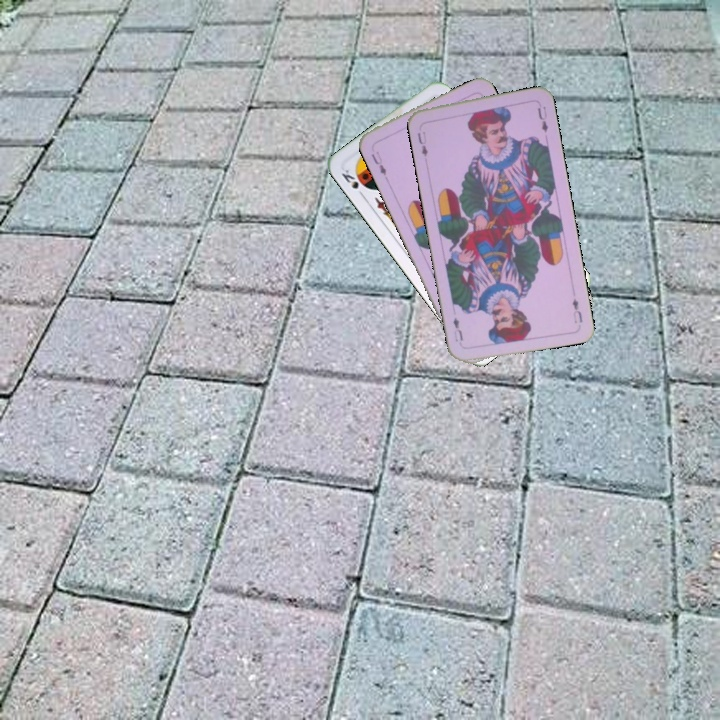EU: (367, 147, 389, 178), (568, 294, 585, 326), (414, 128, 430, 159)
SK: (337, 164, 367, 200)
